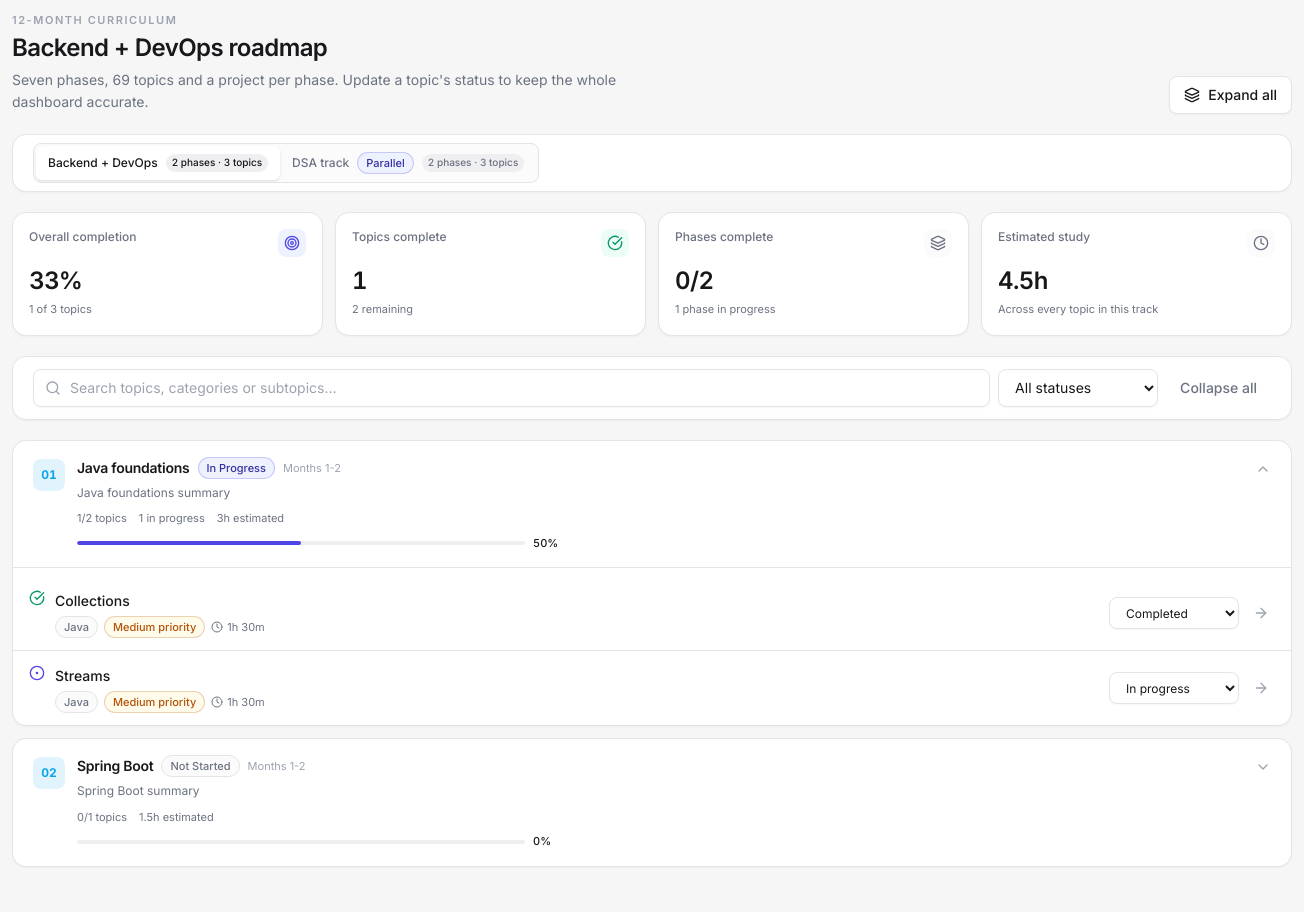
RoadmapPage › shows an empty state when nothing matches
The width and height of the screenshot is (1304, 912).
Type "kubernetes" into the search field named "Search the roadmap" at (512, 388), box left=33, top=369, right=990, bottom=407
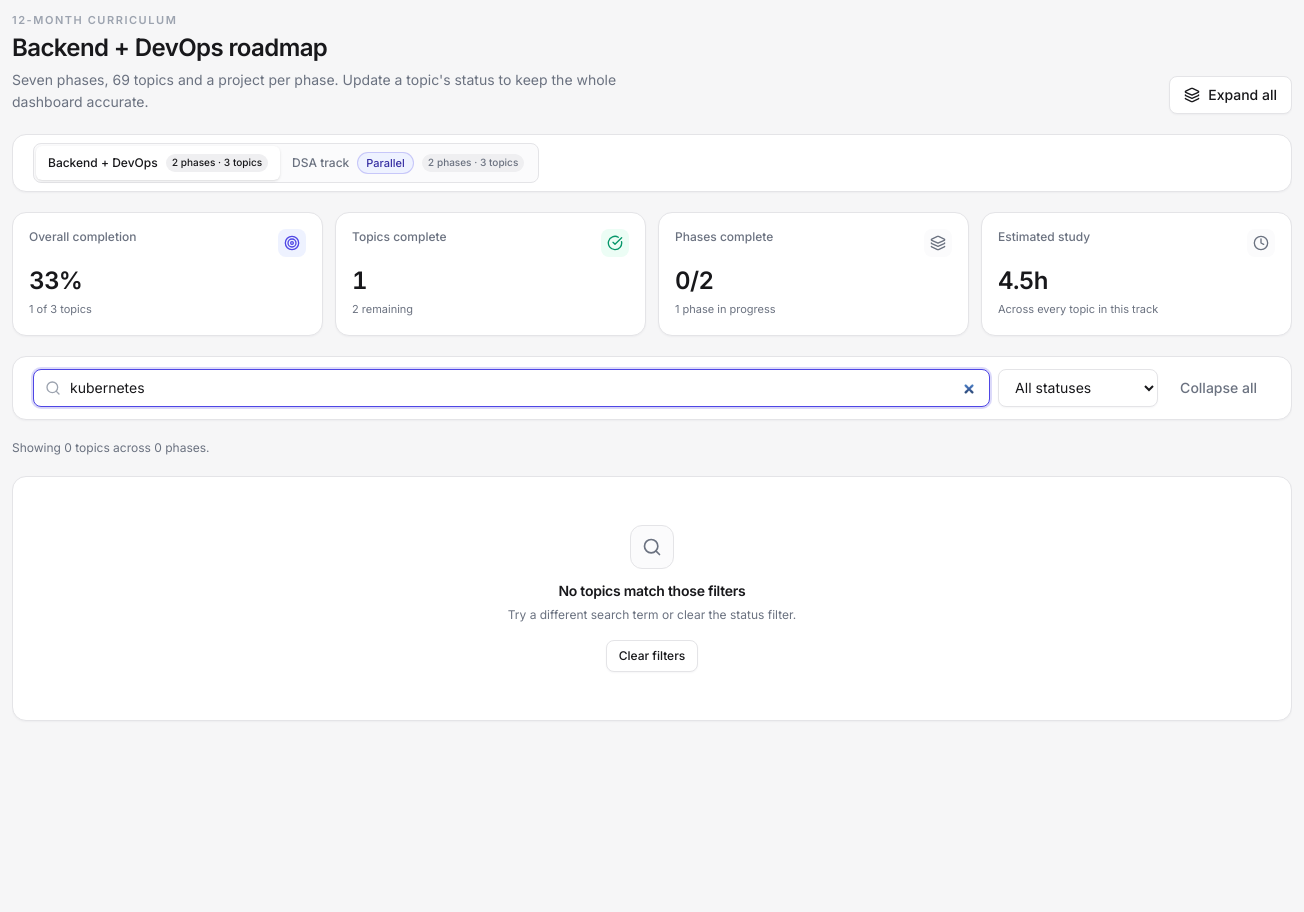
Expected: the heading "No topics match those filters" is shown, left=558, top=581, right=746, bottom=601
Click the button "Clear filters" at (652, 656), box left=606, top=640, right=698, bottom=672
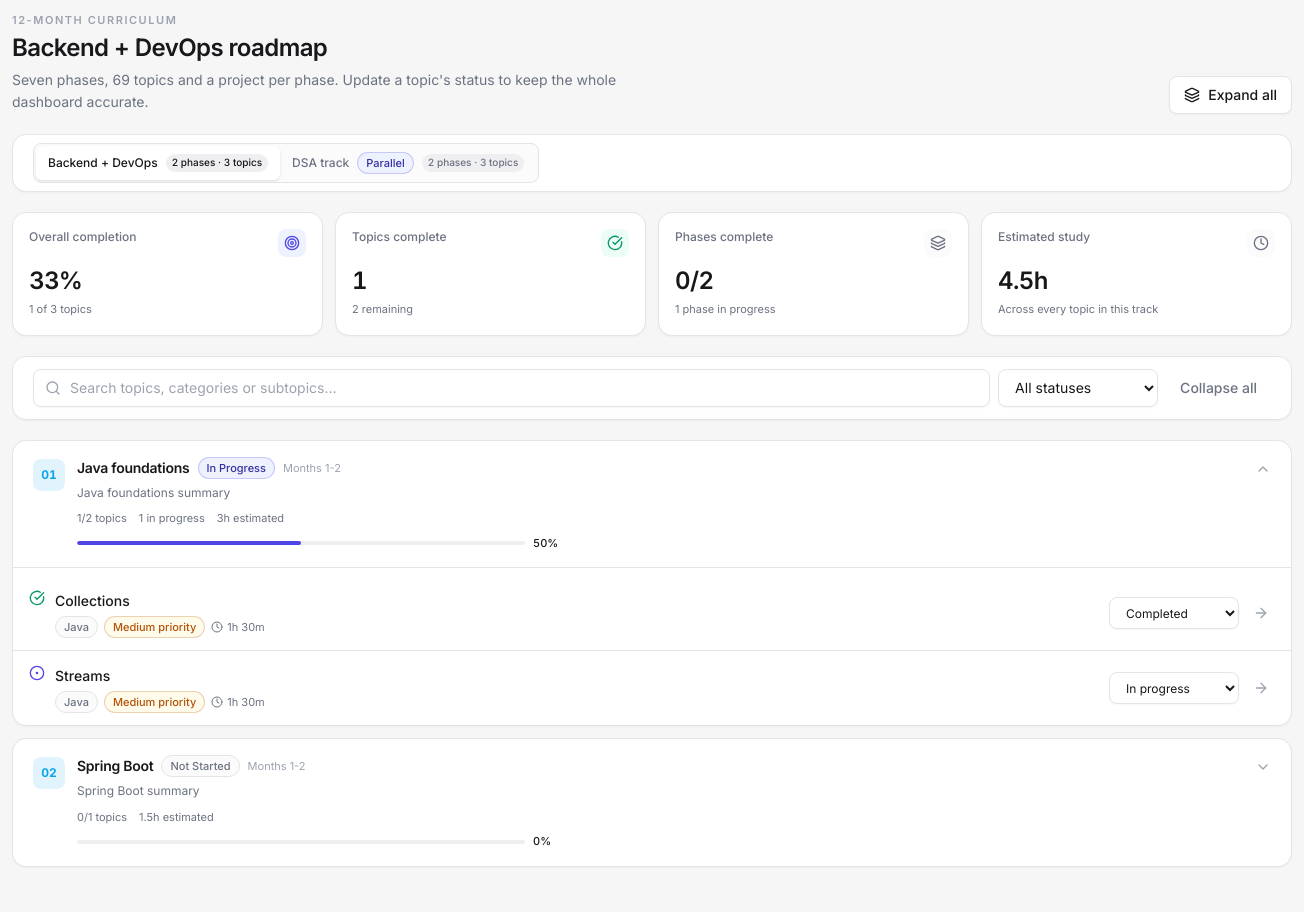
Expected: the link "Collections" is shown, left=55, top=591, right=130, bottom=611
